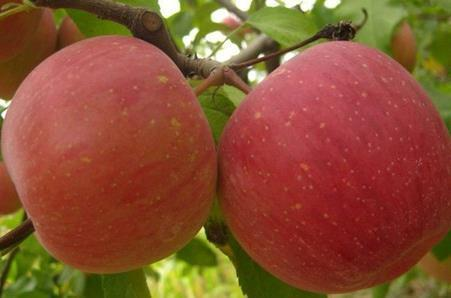apple: (217, 33, 450, 288), (3, 33, 222, 270)
